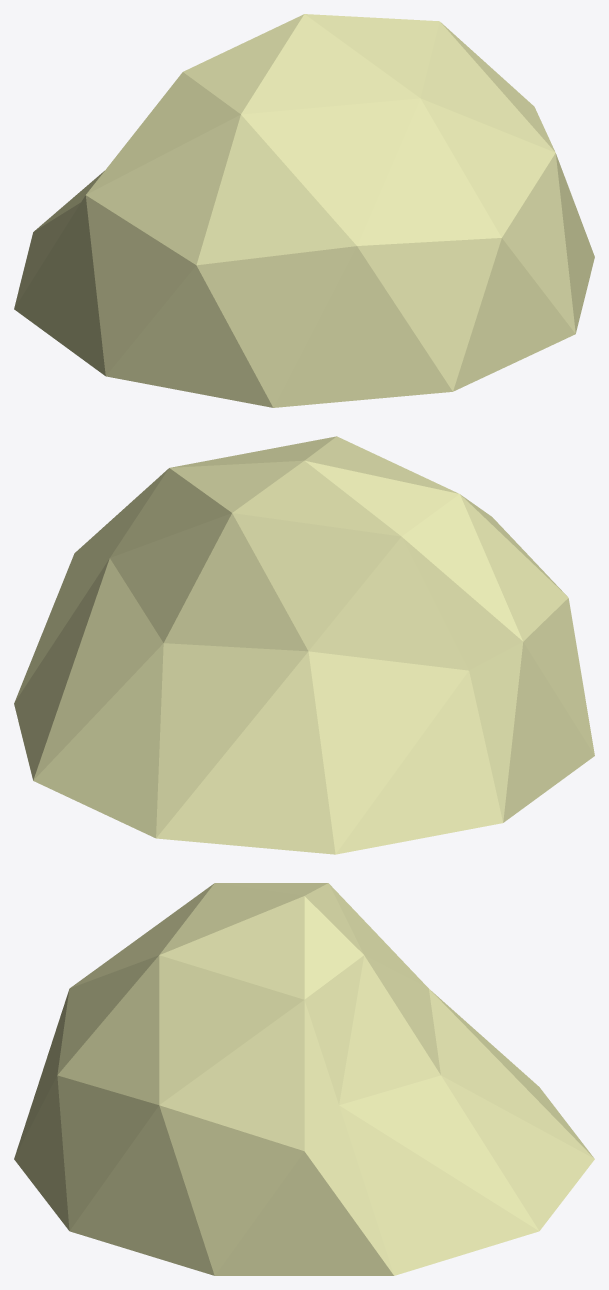
File: stenen12.fbx
The picture shows the model from 3 angles, top to bottom: view 1: azimuth 30°, elevation 25°; view 2: azimuth 150°, elevation 25°; view 3: azimuth 270°, elevation 25°; orthographic projection. The views are drawn at different scales.
Visible parts, largest first — view 1: Icosphere.007; view 2: Icosphere.007; view 3: Icosphere.007.
Part boxes in pixels (bbox=[...]): Icosphere.007: bbox=[14, 14, 594, 407]; Icosphere.007: bbox=[14, 436, 594, 854]; Icosphere.007: bbox=[14, 883, 594, 1275].
Bounding box in the file's own units: 190 × 100 × 200.
